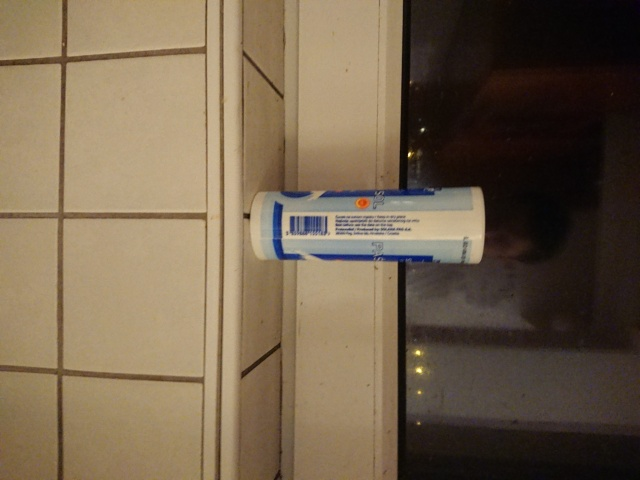Solana Pag Fine Sea Salt 250g: (246, 183, 489, 268)
